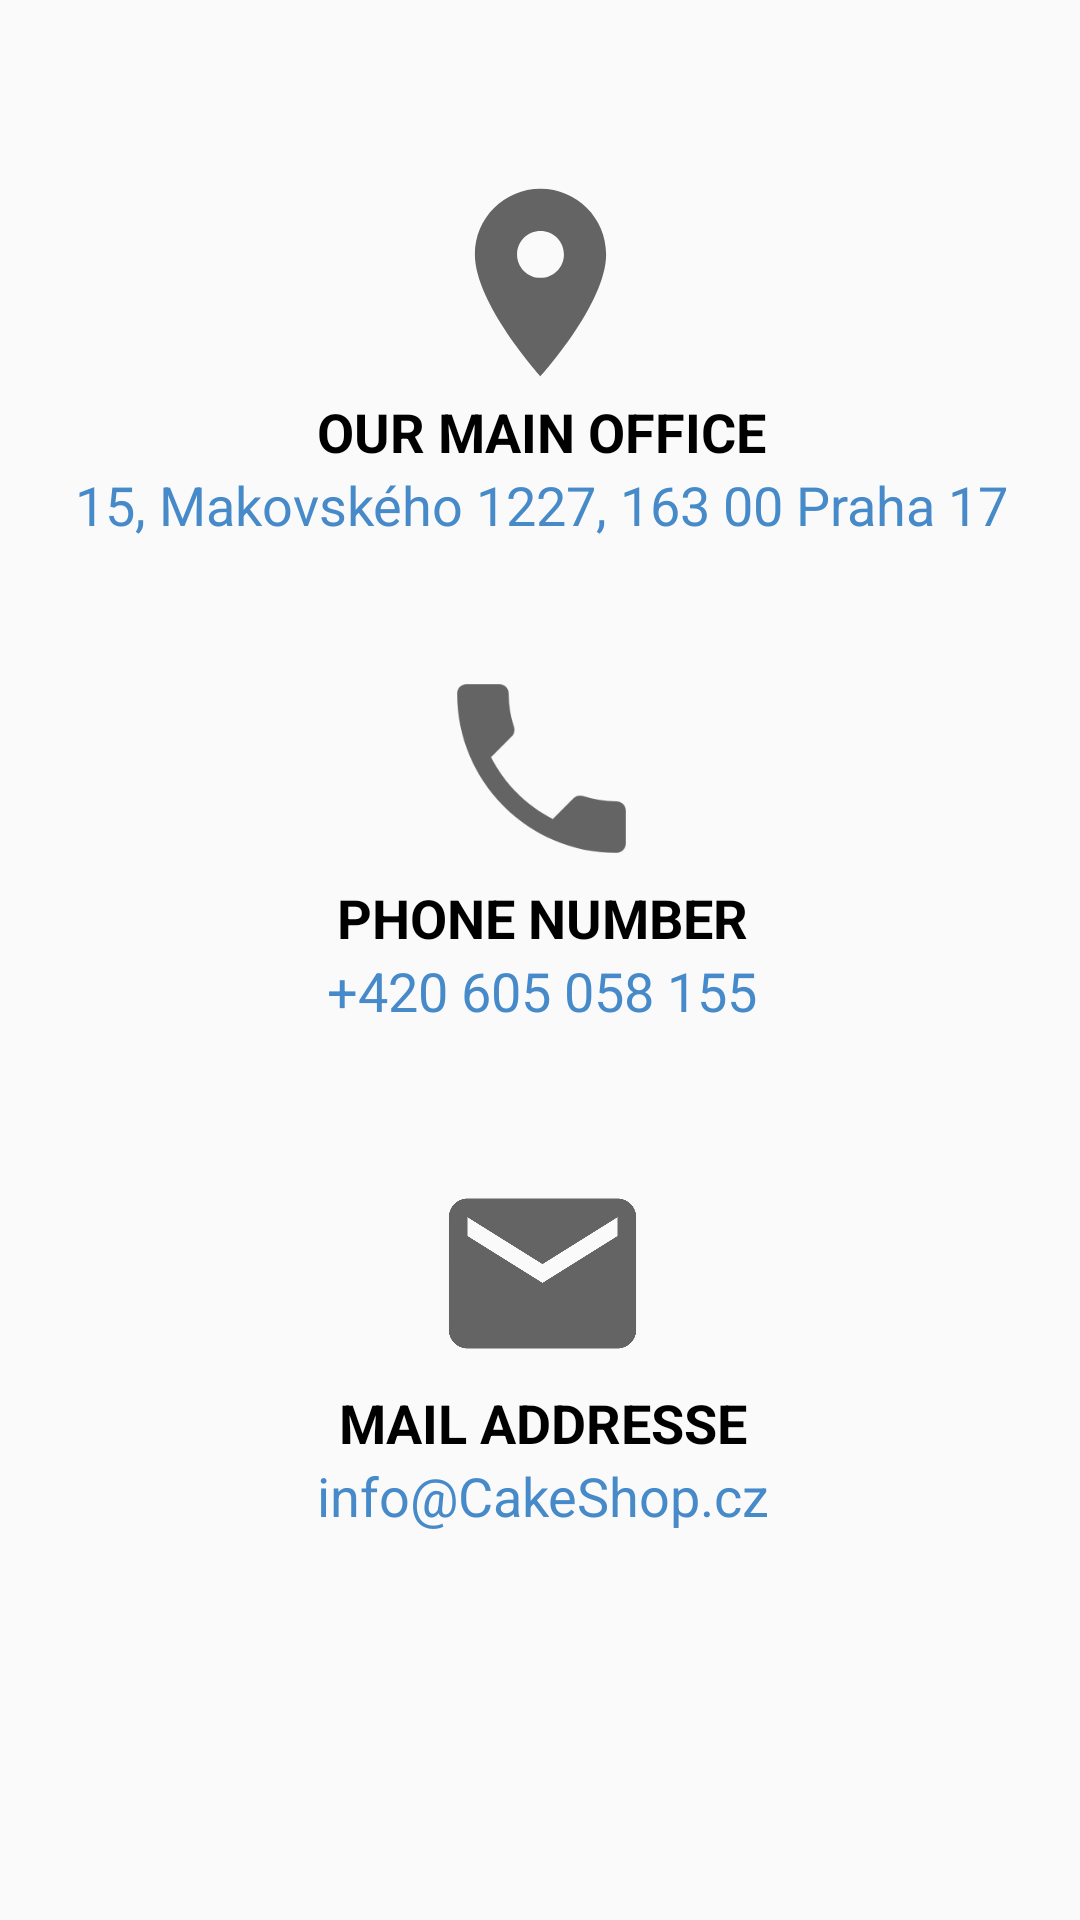

Icon bounding boxes for this 1080 × 1920 phone screenshot, format region(x1, y1, x2, y2):
local phone: region(457, 684, 626, 853)
location on: region(475, 188, 606, 376)
